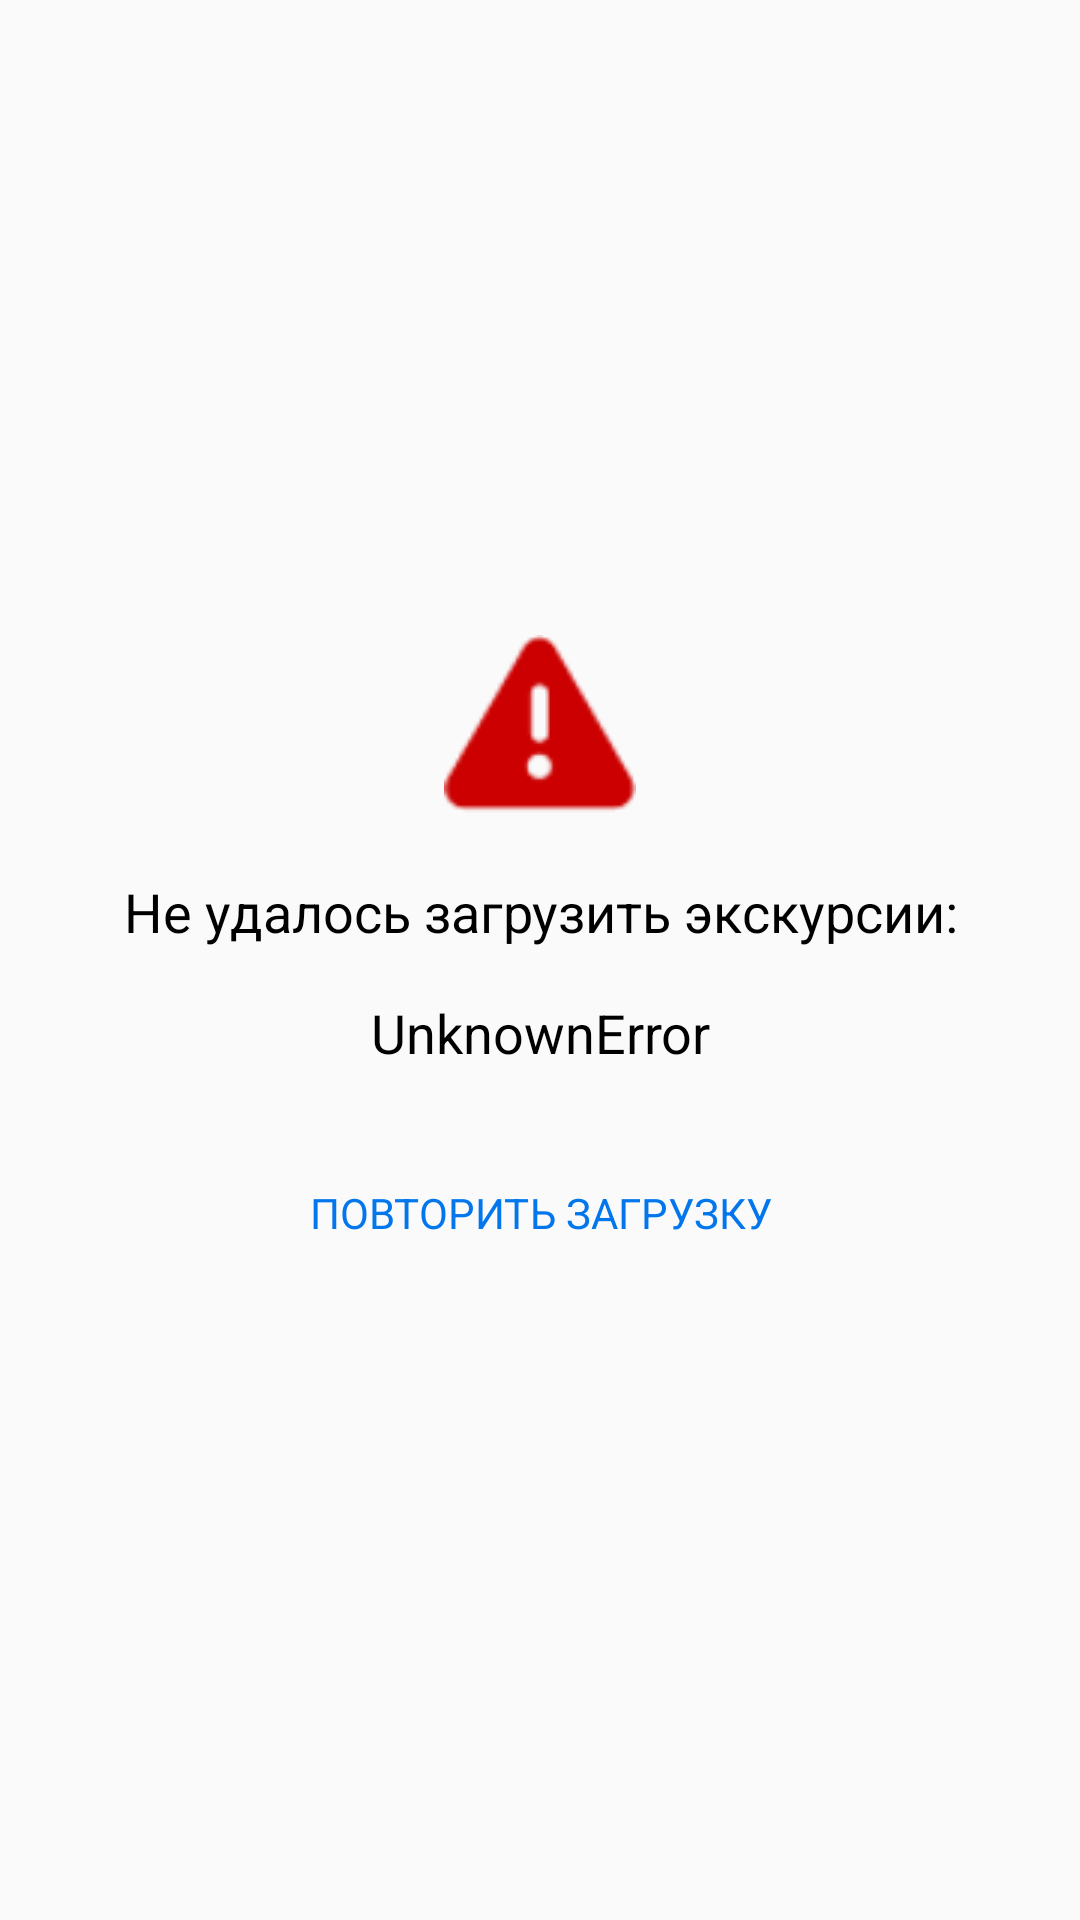

Icon bounding boxes for this 1080 x 1920 phone screenshot, format (x1, y1, x2, y2):
Ошибка загрузки экскурсий: (444, 635, 636, 810)
